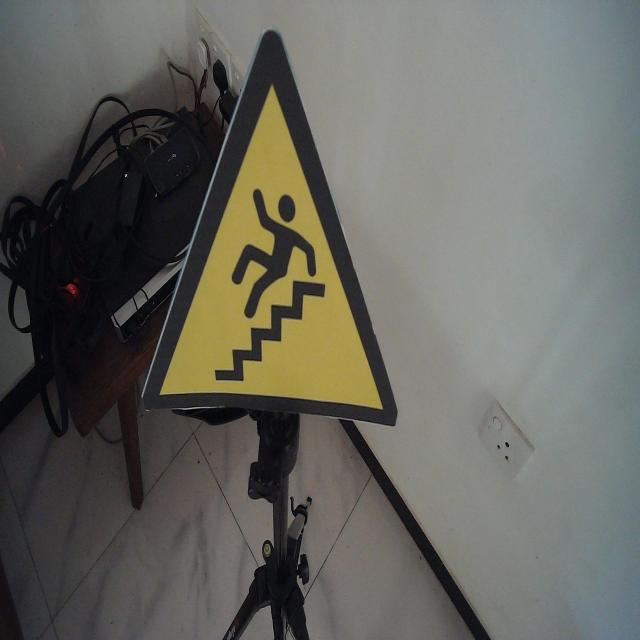stairs: (139, 26, 399, 428)
